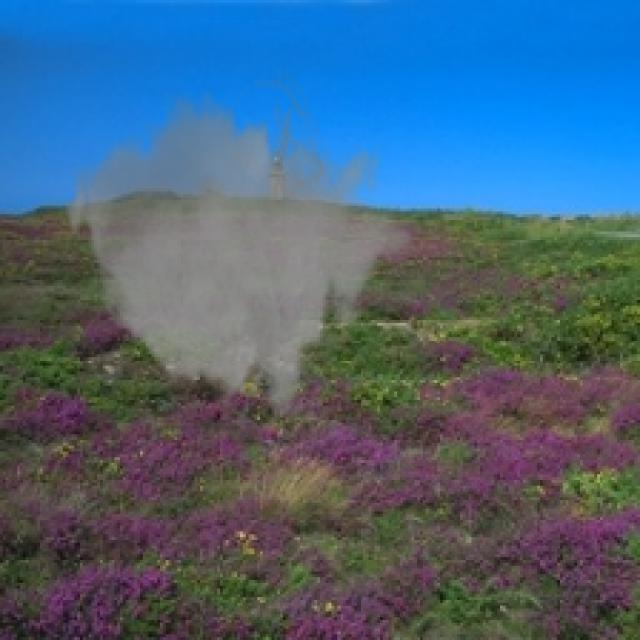Smoke: (62, 62, 418, 432)
